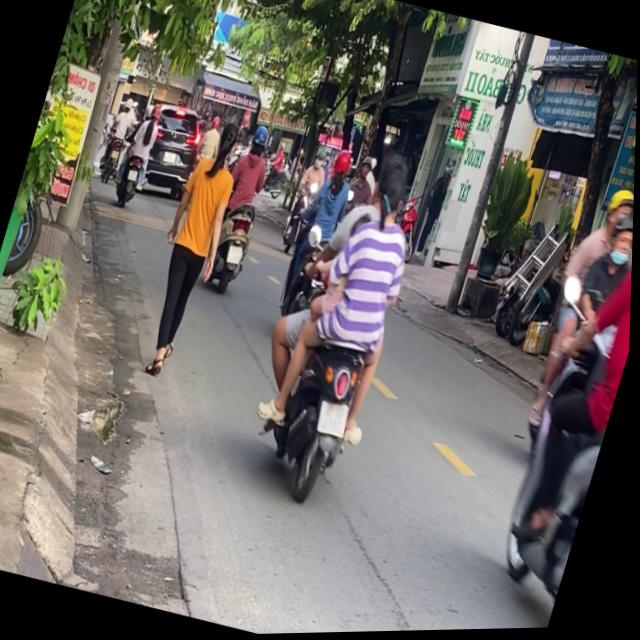helmet: (602, 185, 635, 237), (605, 215, 635, 270), (328, 147, 357, 188), (248, 123, 274, 157)
licenseplate: (228, 133, 448, 516), (469, 173, 636, 632), (200, 120, 288, 298)
motorcyclist: (365, 167, 416, 241)
nohelmet: (316, 400, 354, 440), (227, 245, 245, 266)
